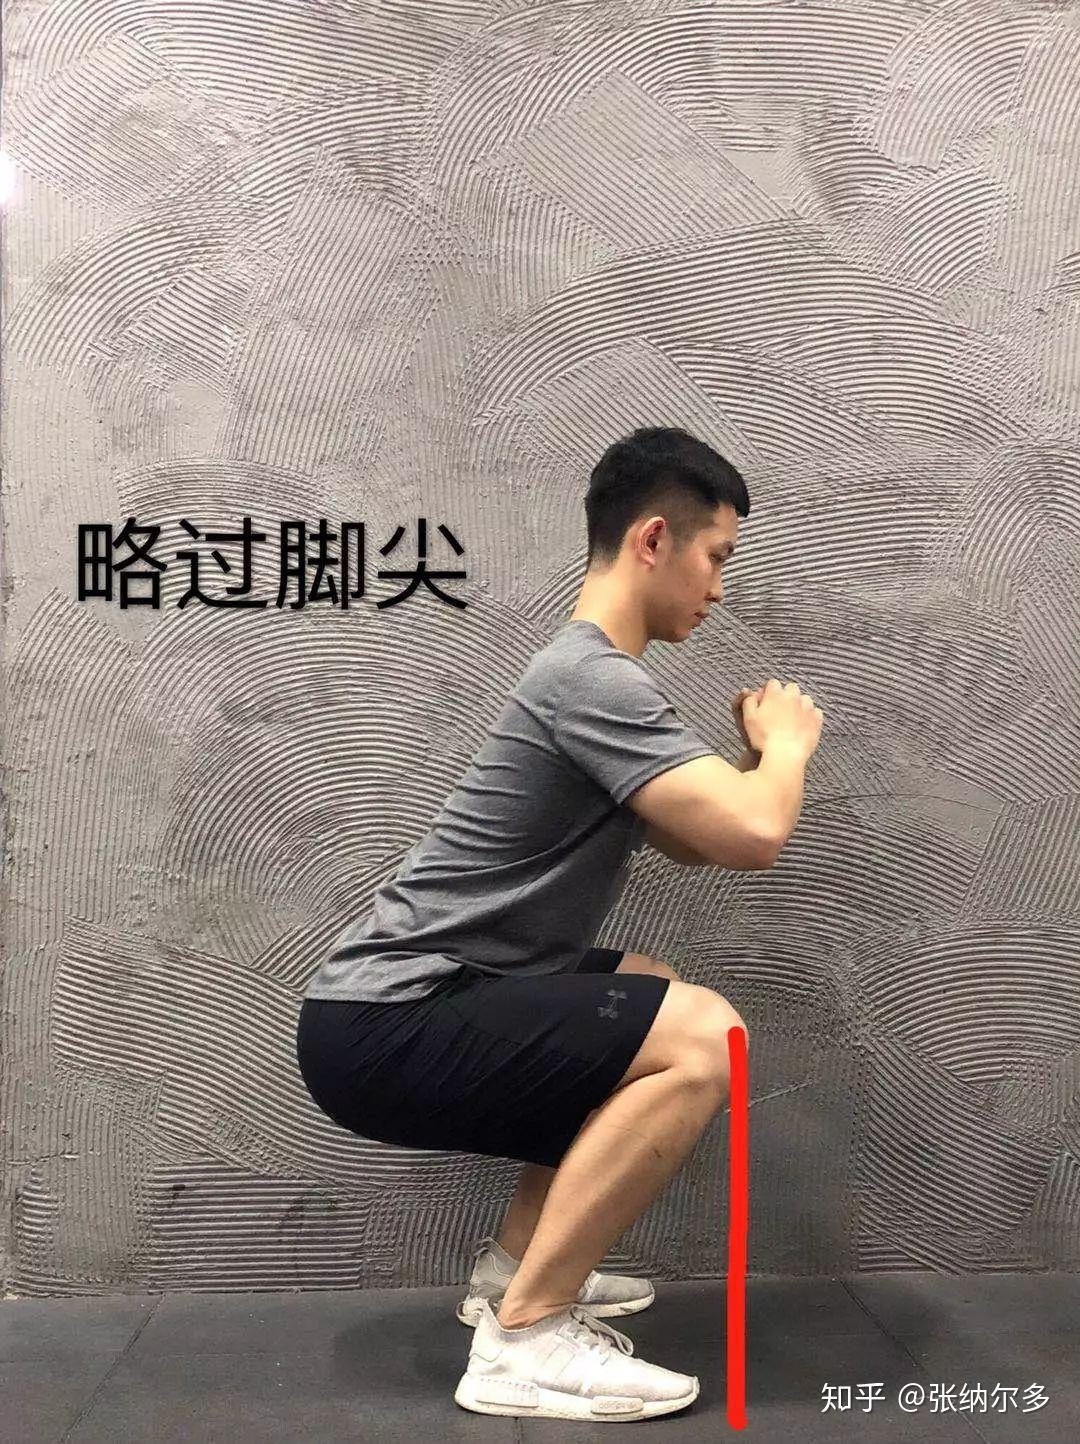Squat: (294, 423, 824, 1422)
